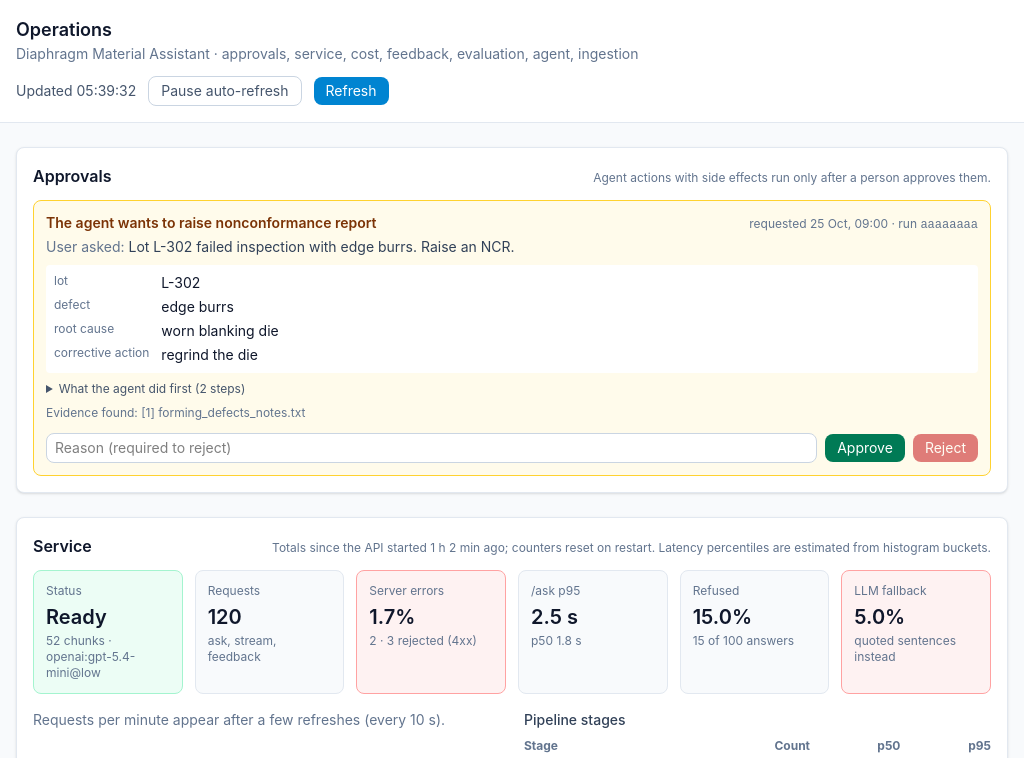
it: Approvals › approves with the admin key and shows the run's new state
Click the button "Approve": click(865, 448) [825,434,905,462]
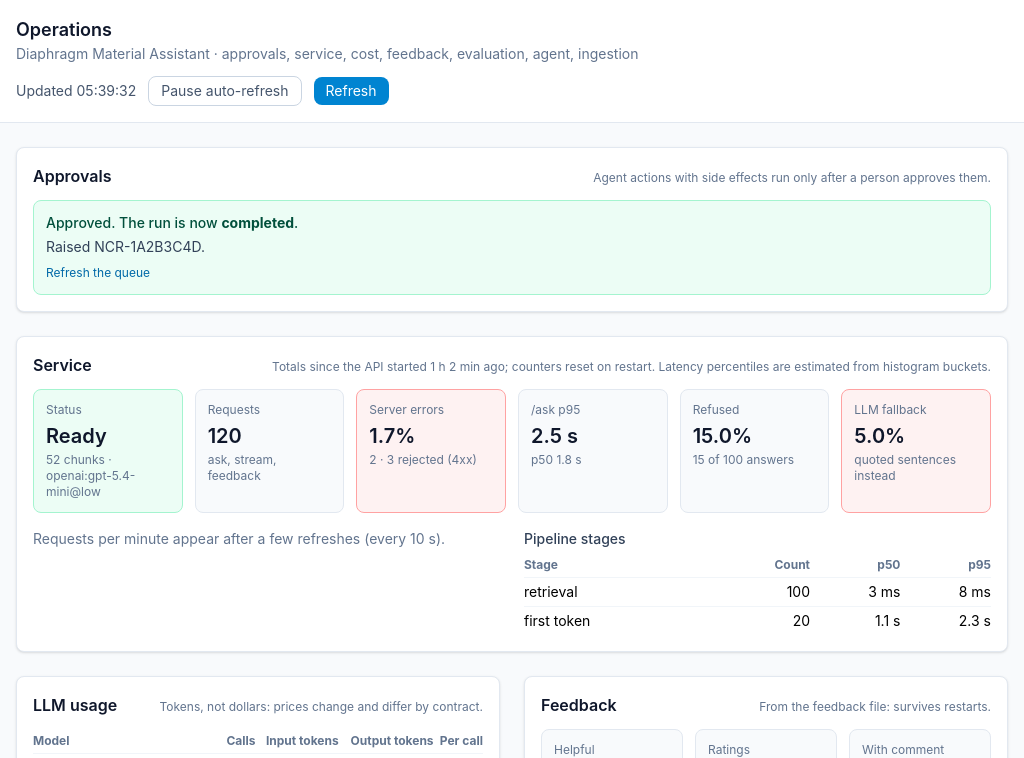
expect the text "Approved. The run is now completed." is shown: met, box [46,214,298,231]
expect the text "Raised NCR-1A2B3C4D." is shown: met, box [46,238,205,255]
